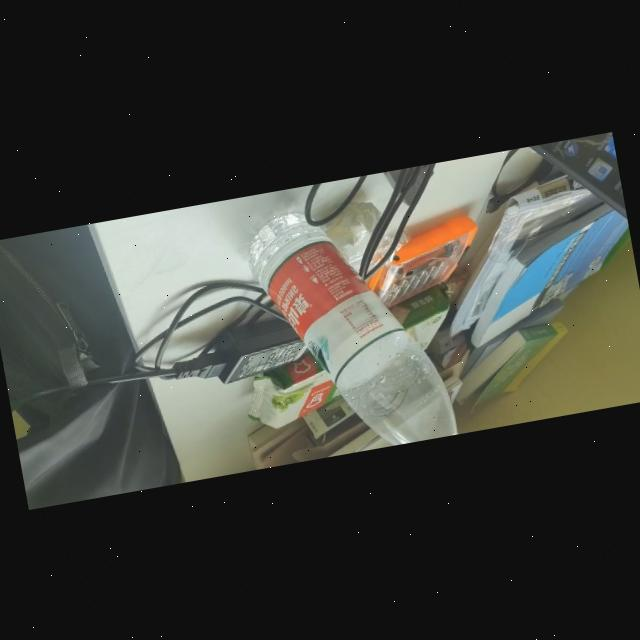trash: (241, 187, 464, 464)
